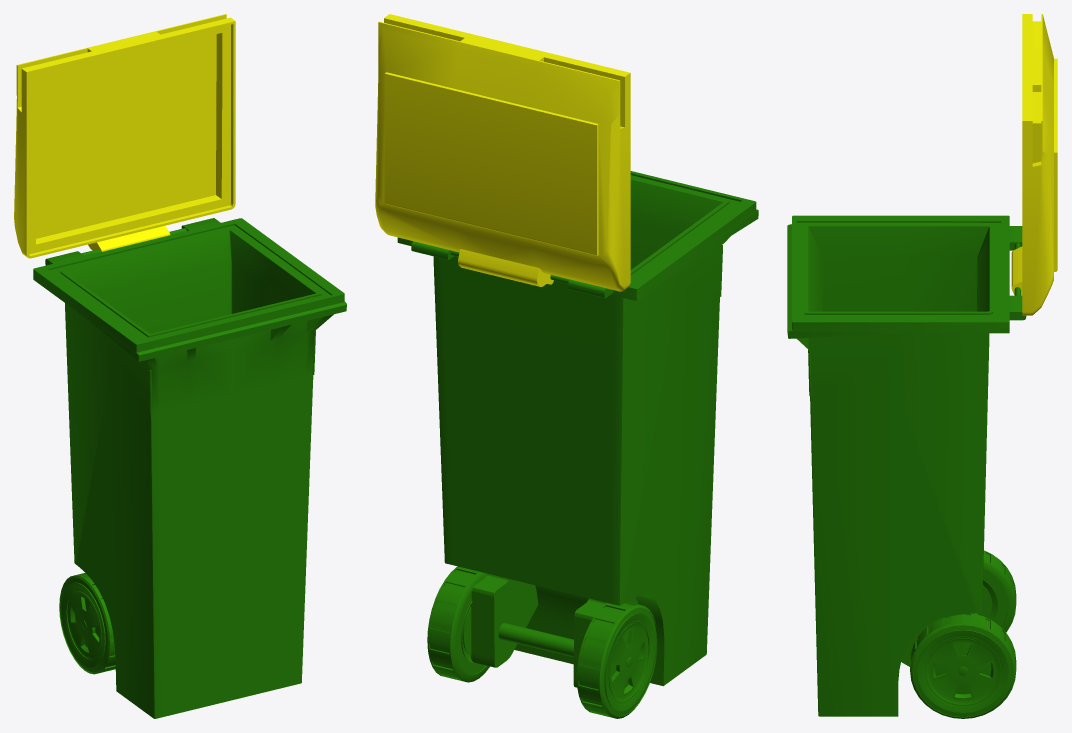
The model's file is bin2.fbx.
The picture shows the model from 3 angles, left to right: view 1: azimuth 30°, elevation 25°; view 2: azimuth 150°, elevation 25°; view 3: azimuth 270°, elevation 25°; orthographic projection. The views are drawn at different scales.
Parts seen in each view (by area): view 1: Lid.002; view 2: Lid.002; view 3: Lid.002.
Boxes of the visible parts, x1,y1,x2,y2 form: Lid.002: [14, 14, 346, 718]; Lid.002: [375, 14, 758, 718]; Lid.002: [787, 14, 1057, 718].
Size of the model in its own units: 730 by 1953 by 780.
